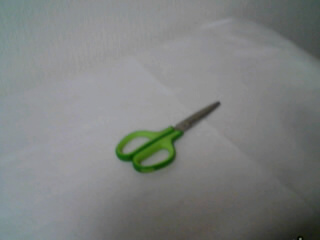003_classes: (113, 98, 230, 181)
